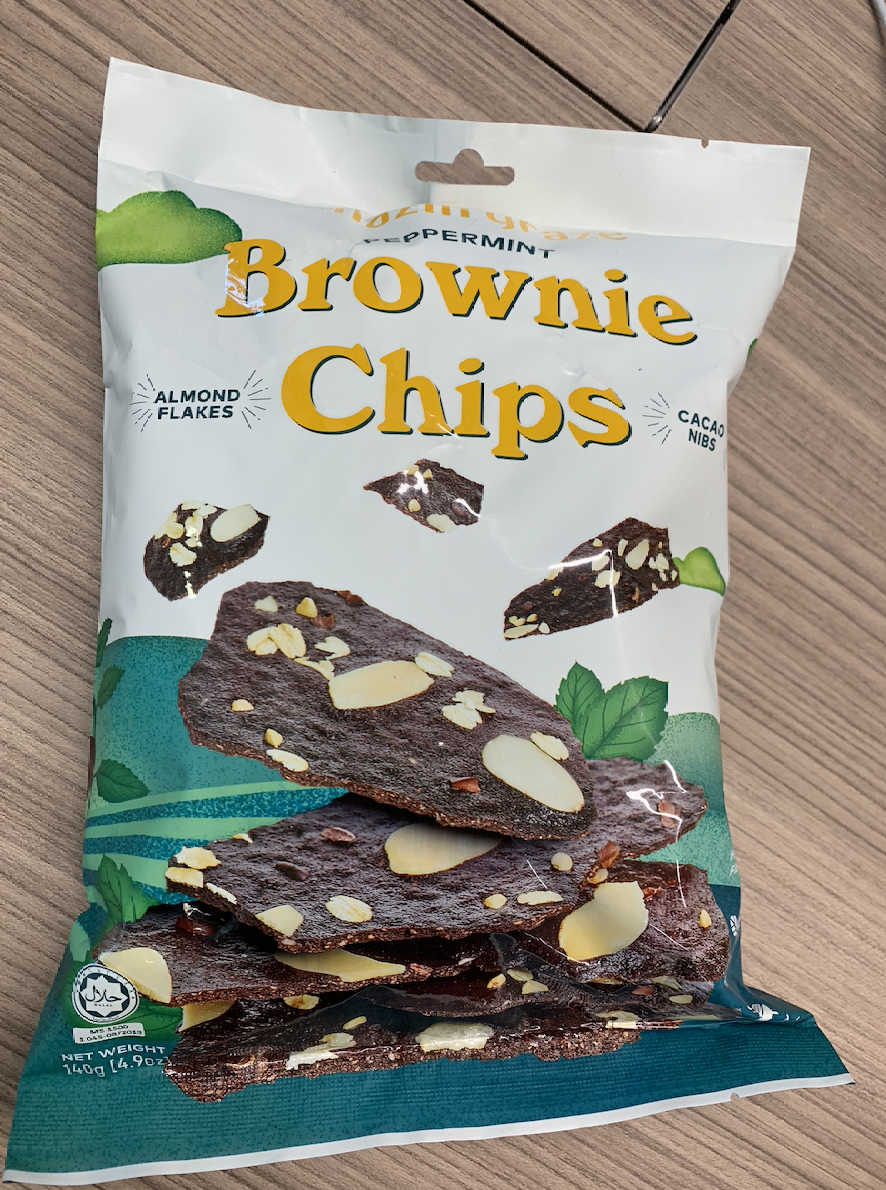cookies_150g: (92, 193, 705, 1054)
